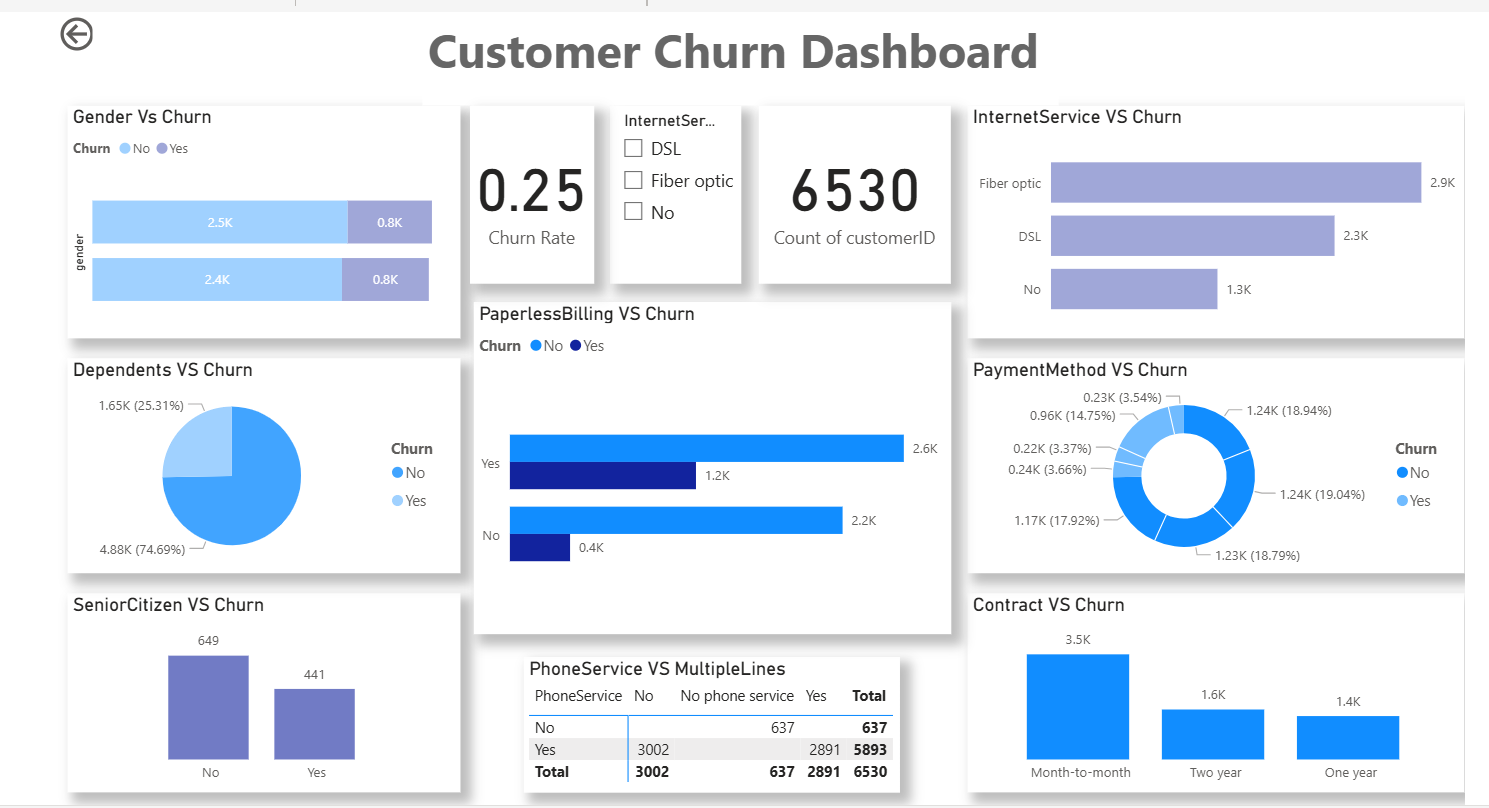

The dashboard page shown, as its layout file describes it:
{"tool":"powerbi","page":{"name":"Page 1","canvas":[1280,720],"ordinal":0},"visuals":[{"type":"barChart","title":"Gender Vs Churn","fields":{"Series":["01 Churn-Dataset.Churn"],"Category":["01 Churn-Dataset.gender"],"Y":["CountNonNull(01 Churn-Dataset.customerID)"]},"box":[11,85.1,356.8,211.3],"z":0},{"type":"columnChart","title":"SeniorCitizen VS Churn","fields":{"Y":["Sum(01 Churn-Dataset.SeniorCitizen)"],"Category":["01 Churn-Dataset.Churn"]},"box":[11,528.3,356.8,181.1],"z":1},{"type":"pieChart","title":"Dependents VS Churn","fields":{"Category":["01 Churn-Dataset.Churn"],"Y":["CountNonNull(01 Churn-Dataset.Dependents)"]},"box":[11,314.2,356.8,194.8],"z":2},{"type":"slicer","fields":{"Values":["01 Churn-Dataset.InternetService"]},"box":[380.1,85.1,182.5,161.9],"z":3},{"type":"barChart","title":" InternetService VS Churn","fields":{"Category":["01 Churn-Dataset.InternetService"],"Y":["CountNonNull(01 Churn-Dataset.Churn)"]},"box":[828.8,85.1,451.5,211.3],"z":4},{"type":"clusteredColumnChart","title":"Contract VS Churn","fields":{"Category":["01 Churn-Dataset.Contract"],"Y":["CountNonNull(01 Churn-Dataset.Churn)"]},"box":[828.8,528.3,451.5,181.1],"z":5},{"type":"actionButton","box":[0,0,100,40],"z":8},{"type":"pivotTable","title":"PhoneService VS MultipleLines","fields":{"Columns":["01 Churn-Dataset.MultipleLines"],"Rows":["01 Churn-Dataset.PhoneService"],"Values":["CountNonNull(01 Churn-Dataset.customerID)"]},"box":[425.4,585.9,341.7,123.5],"z":9},{"type":"donutChart","title":"PaymentMethod VS Churn","fields":{"Category":["01 Churn-Dataset.Churn"],"Y":["CountNonNull(01 Churn-Dataset.customerID)"],"Series":["01 Churn-Dataset.PaymentMethod"]},"box":[828.8,314.2,451.5,194.8],"z":10},{"type":"clusteredBarChart","title":" PaperlessBilling VS Churn","fields":{"Category":["01 Churn-Dataset.PaperlessBilling"],"Y":["Count(01 Churn-Dataset.customerID)"],"Series":["01 Churn-Dataset.Churn"]},"box":[380.1,263.5,433.6,301.9],"z":11},{"type":"textbox","box":[34.3,6.9,299.1,65.9],"z":12},{"type":"textbox","box":[333.4,0,577.7,85.1],"z":13},{"type":"card","fields":{"Values":["CountNonNull(01 Churn-Dataset.customerID)"]},"box":[591.4,85.1,222.3,161.9],"z":14}]}

Visuals, with their boxes on the page's 1280x720 design canvas (x1, y1, x2, y2). These are canvas units, not pixel positions in the 1489x808 screenshot, which may show the page scaled, cropped or inside an application window:
"Gender Vs Churn" barChart: box(11, 85, 368, 296)
"SeniorCitizen VS Churn" columnChart: box(11, 528, 368, 709)
"Dependents VS Churn" pieChart: box(11, 314, 368, 509)
slicer - 01 Churn-Dataset.InternetService: box(380, 85, 563, 247)
" InternetService VS Churn" barChart: box(829, 85, 1280, 296)
"Contract VS Churn" clusteredColumnChart: box(829, 528, 1280, 709)
actionButton: box(0, 0, 100, 40)
"PhoneService VS MultipleLines" pivotTable: box(425, 586, 767, 709)
"PaymentMethod VS Churn" donutChart: box(829, 314, 1280, 509)
" PaperlessBilling VS Churn" clusteredBarChart: box(380, 264, 814, 565)
textbox: box(34, 7, 333, 73)
textbox: box(333, 0, 911, 85)
card - CountNonNull(01 Churn-Dataset.customerID): box(591, 85, 814, 247)
